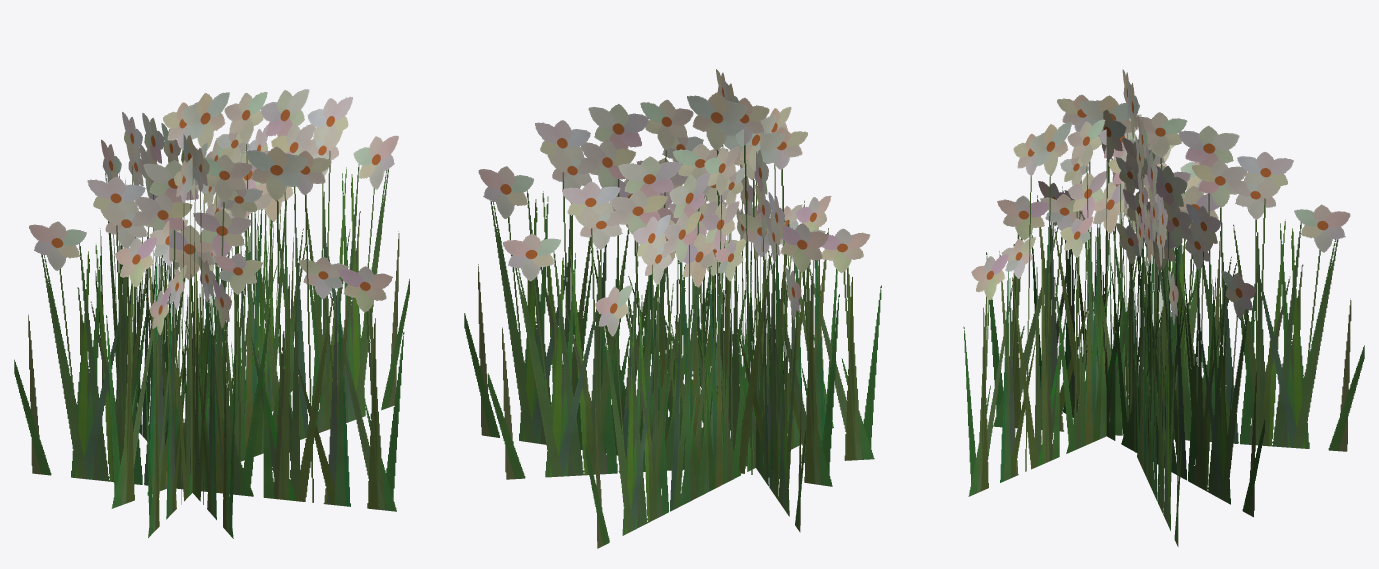
The model's file is Flower_Garden_2_LOD1.gltf.
The picture shows the model from 3 angles, left to right: view 1: azimuth 30°, elevation 25°; view 2: azimuth 150°, elevation 25°; view 3: azimuth 270°, elevation 25°; orthographic projection. The views are drawn at different scales.
Parts seen in each view (by area): view 1: Flower_Garden_2_LOD1; view 2: Flower_Garden_2_LOD1; view 3: Flower_Garden_2_LOD1.
Boxes of the visible parts, left/top/right/bottom form: Flower_Garden_2_LOD1: left=14, top=89, right=409, bottom=538; Flower_Garden_2_LOD1: left=464, top=69, right=881, bottom=548; Flower_Garden_2_LOD1: left=963, top=69, right=1364, bottom=546.
Size of the model in its own units: 0.851 by 0.847 by 0.8796.
Materials: 1 (1 with a texture image).
